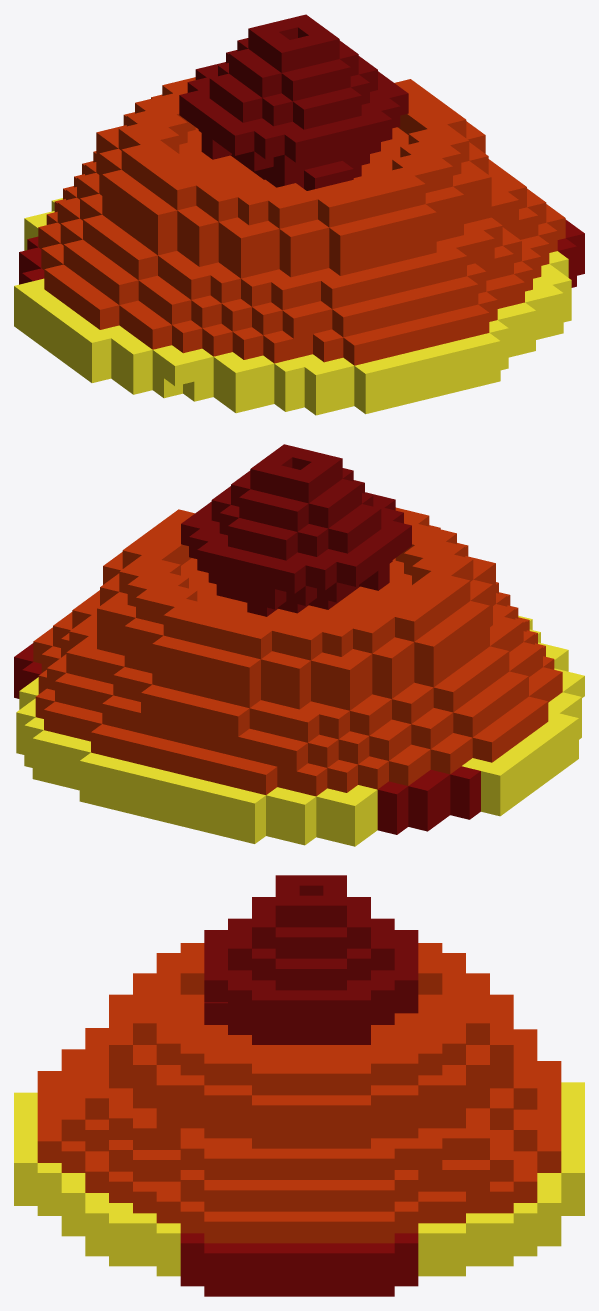
Rendered from MontBlanc.obj.
3 renders of one model, top to bottom at view 1: azimuth 30°, elevation 25°; view 2: azimuth 150°, elevation 25°; view 3: azimuth 270°, elevation 25°, orthographic. The views are drawn at different scales.
Visible parts, largest first — view 1: MontBlanc; view 2: MontBlanc; view 3: MontBlanc.
Part boxes in pixels (<box>): MontBlanc: <box>14,14,584,415</box>; MontBlanc: <box>14,444,584,846</box>; MontBlanc: <box>14,875,584,1296</box>.
Size of the model in its own units: 25 by 13 by 24.
1 material, 1 textured.
